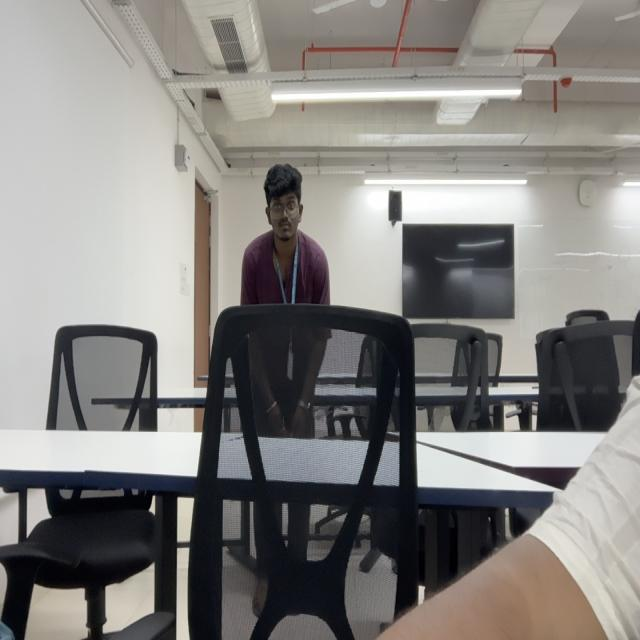ravindra: (263, 164, 305, 243)
